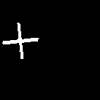single_crochet: (3, 23, 38, 58)
